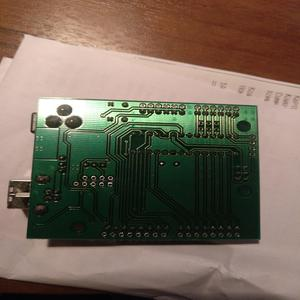duino: (10, 75, 259, 250)
